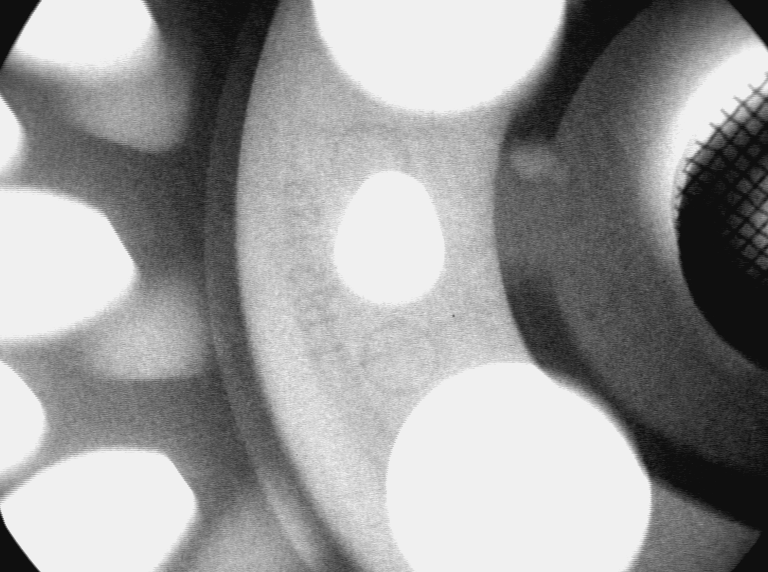defect: (510, 133, 573, 184)
